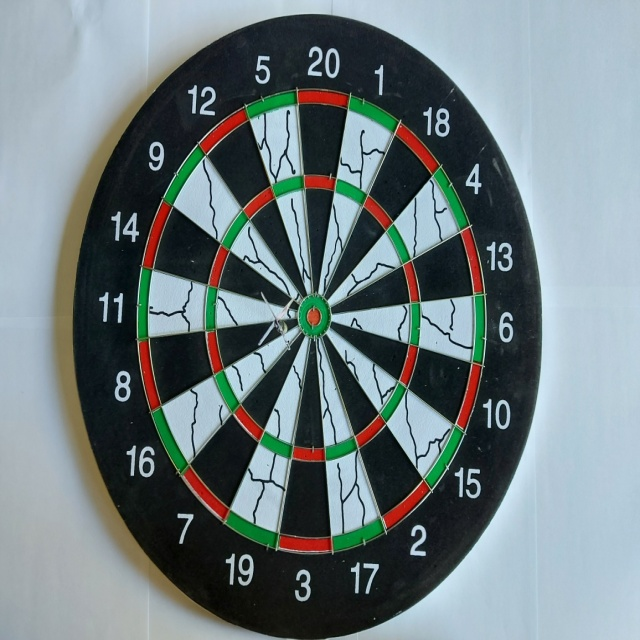Dart: (245, 283, 303, 362)
